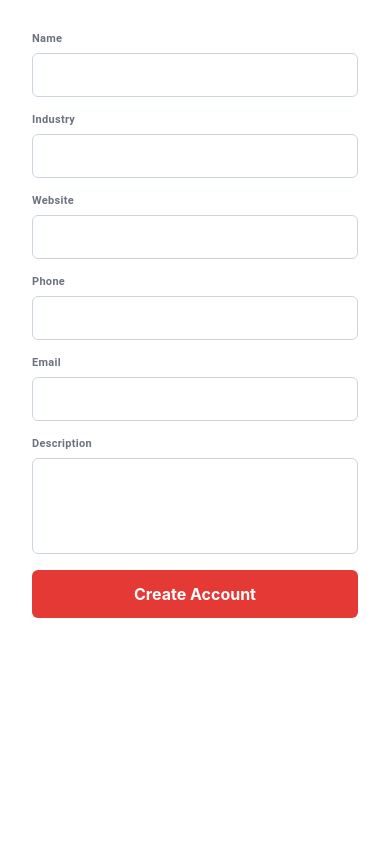
Test: CRM account forms › validates required account name before create submit
Click the element with test id "crm-account-form-submit" at (195, 594), box [32, 570, 358, 618]
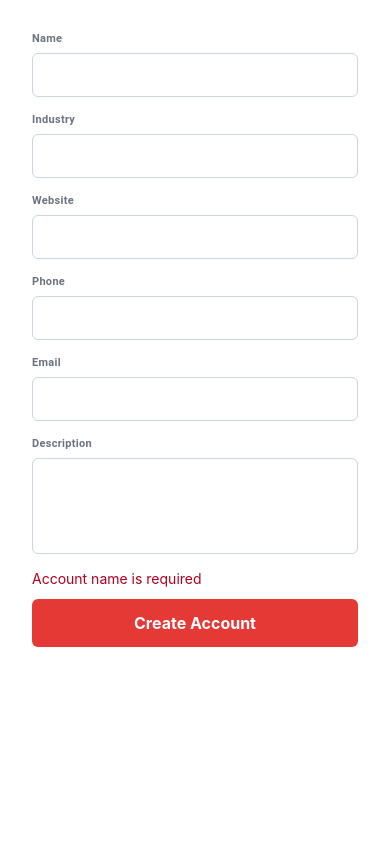
Check: the text "Account name is required" is shown, box [32, 570, 202, 587]
